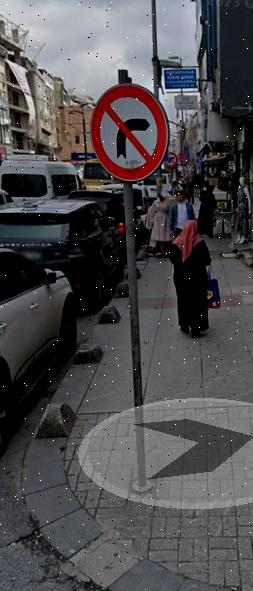rightturnsareforbidden: (91, 83, 170, 181)
